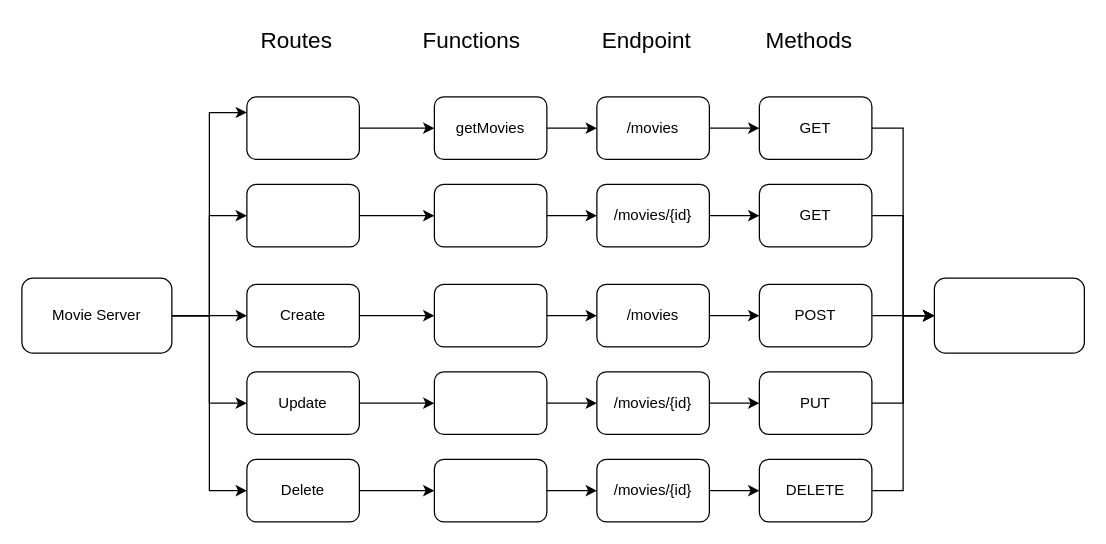
Some shapes in this 1106 by 544 pixel diagram are drawn without their labels. The shapes that lost their labels are listed below. From the top down, each one's centre as x and y in pixels, then its label:
At (x=302, y=127): "Get All".
At (x=302, y=215): "Get By ID".
At (x=490, y=215): "getMovie".
At (x=490, y=315): "createMovie".
At (x=1008, y=315): "Postman".
At (x=490, y=402): "updateMovie".
At (x=490, y=490): "deleteMovie".
